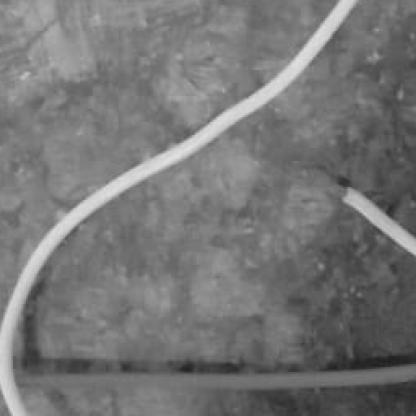wires: (0, 0, 358, 414), (343, 188, 414, 254)
